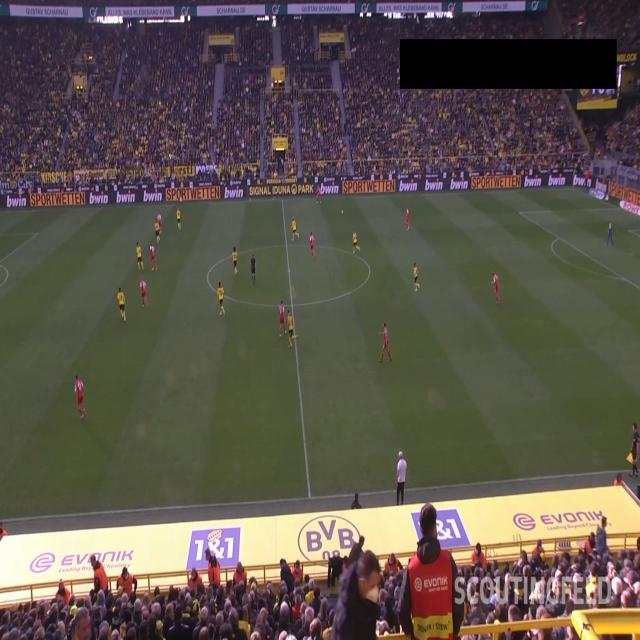ball: (341, 210, 344, 214)
